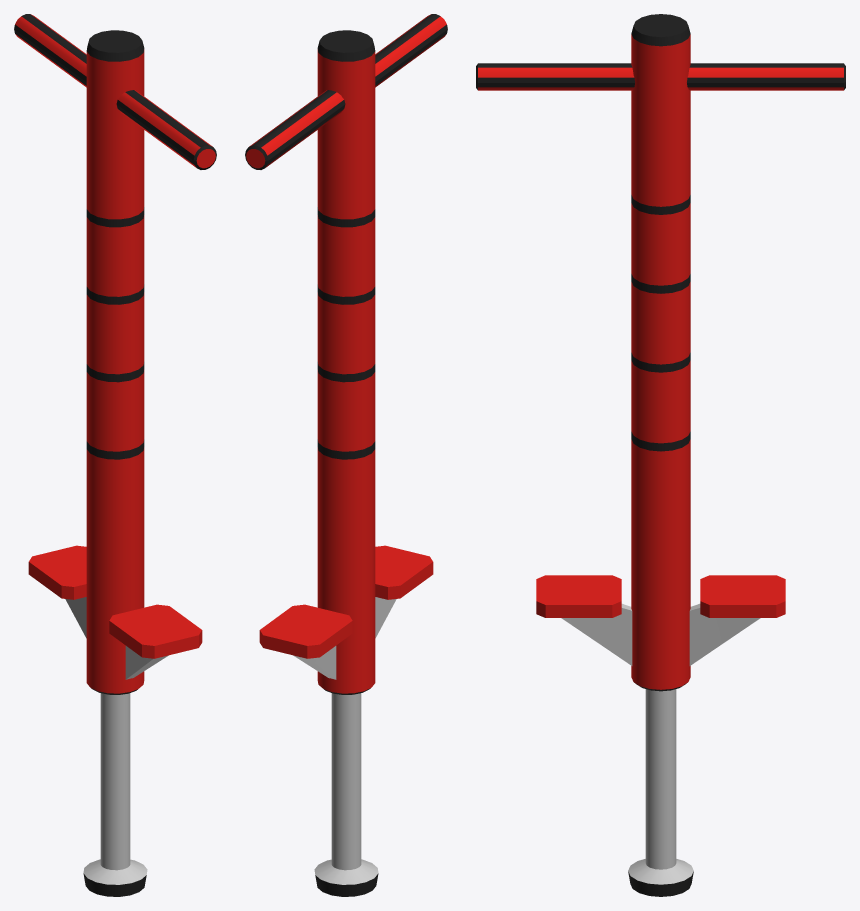
The model's file is SM_Pogo.glb.
3 renders of one model, left to right at view 1: azimuth 30°, elevation 25°; view 2: azimuth 150°, elevation 25°; view 3: azimuth 270°, elevation 25°, orthographic.
Parts seen in each view (by area): view 1: SM_Pogo; view 2: SM_Pogo; view 3: SM_Pogo.
Part boxes in pixels (bbox=[...]): SM_Pogo: bbox=[14, 14, 216, 896]; SM_Pogo: bbox=[245, 14, 447, 896]; SM_Pogo: bbox=[476, 14, 845, 896].
Bounding box in the file's own units: 0.1472 × 1.97 × 0.7704.
